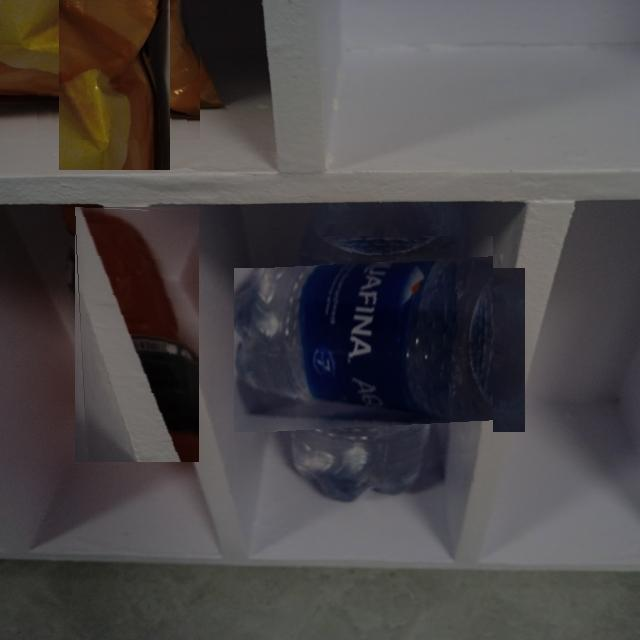Plastic: (266, 236, 494, 464), (74, 206, 199, 462), (29, 0, 200, 140)
